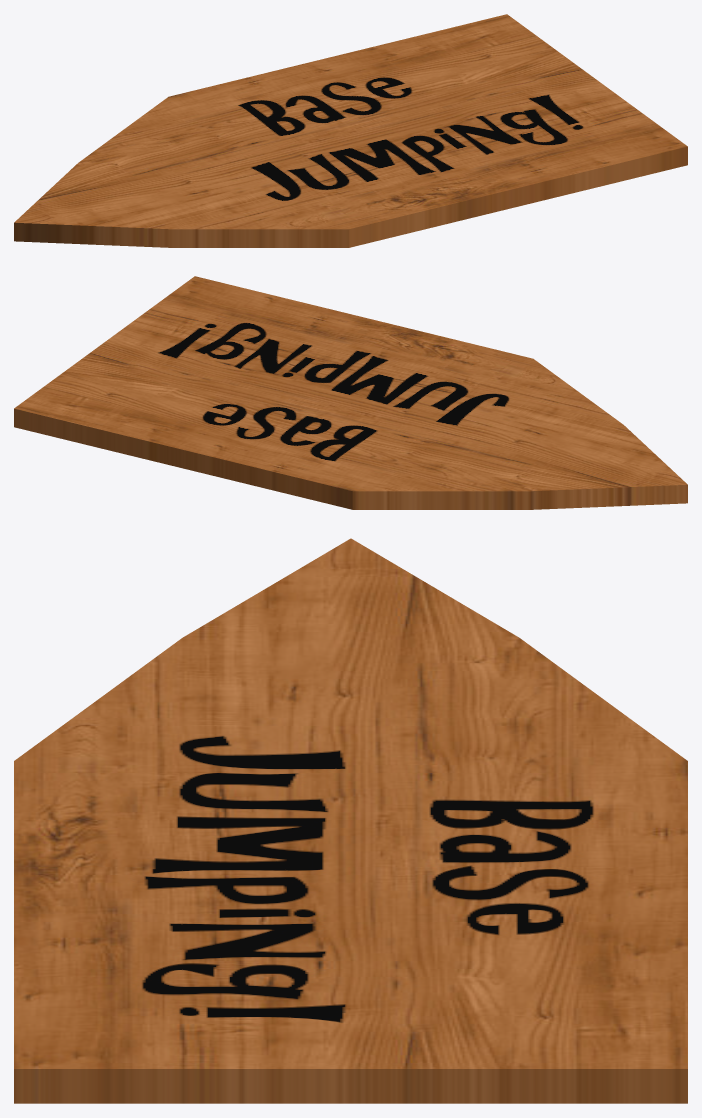
The picture shows the model from 3 angles, top to bottom: view 1: azimuth 30°, elevation 25°; view 2: azimuth 150°, elevation 25°; view 3: azimuth 270°, elevation 25°; orthographic projection. The views are drawn at different scales.
Visible parts, largest first — view 1: Box001; view 2: Box001; view 3: Box001.
Boxes of the visible parts, left/top/right/bottom form: Box001: left=14, top=14, right=687, bottom=247; Box001: left=14, top=276, right=687, bottom=509; Box001: left=14, top=538, right=687, bottom=1103.
Size of the model in its own units: 53.67 by 1.64 by 28.82.
1 material, 1 textured.
